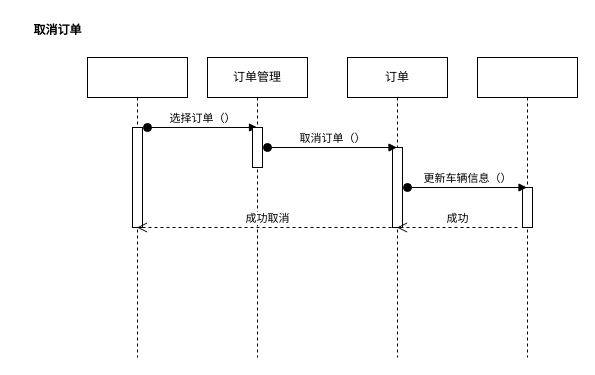
Some shapes in this 595 by 375 pixel diagram are drawn without their labels. Each missing label, with the centre of its shape:
"车辆" goes at [527,207].
"顾客" goes at [137,207].
